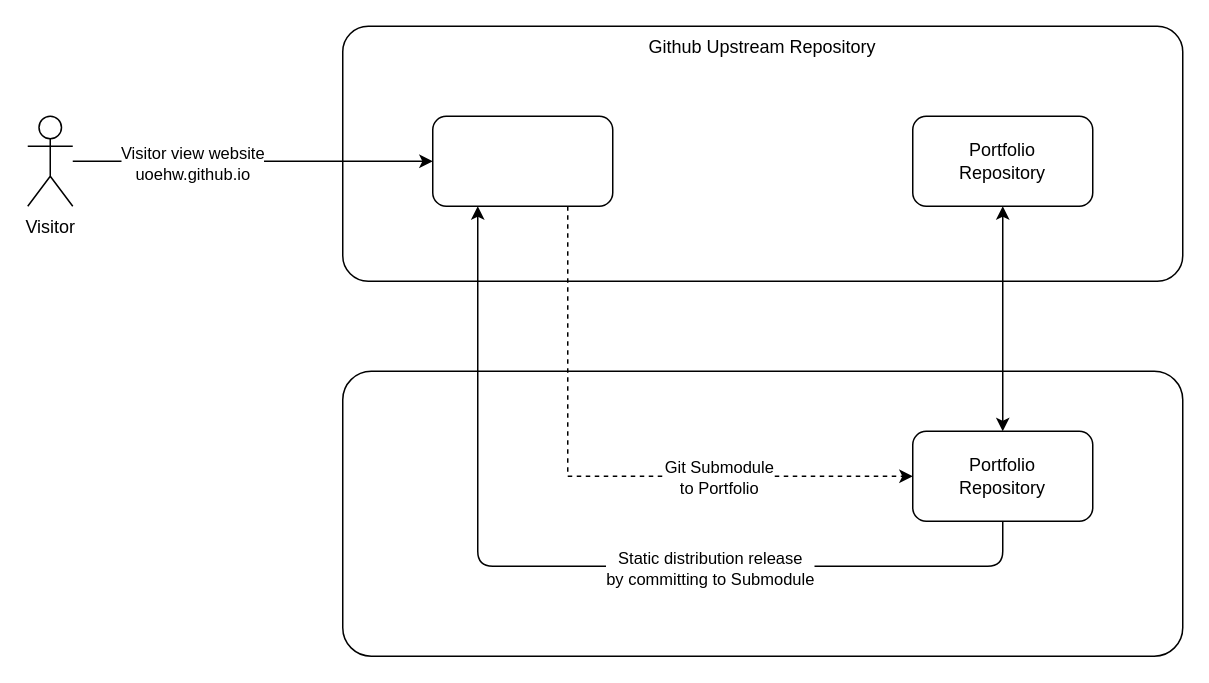
The diagram is 1209 pixels wide and 683 high, and some of its shapes have lost their labels. Here are the shapes that lost their labels. From the top down, the box of each, then its label:
(431, 115, 613, 206): uoehw.github.io repository
(341, 370, 1183, 656): Local Repository
